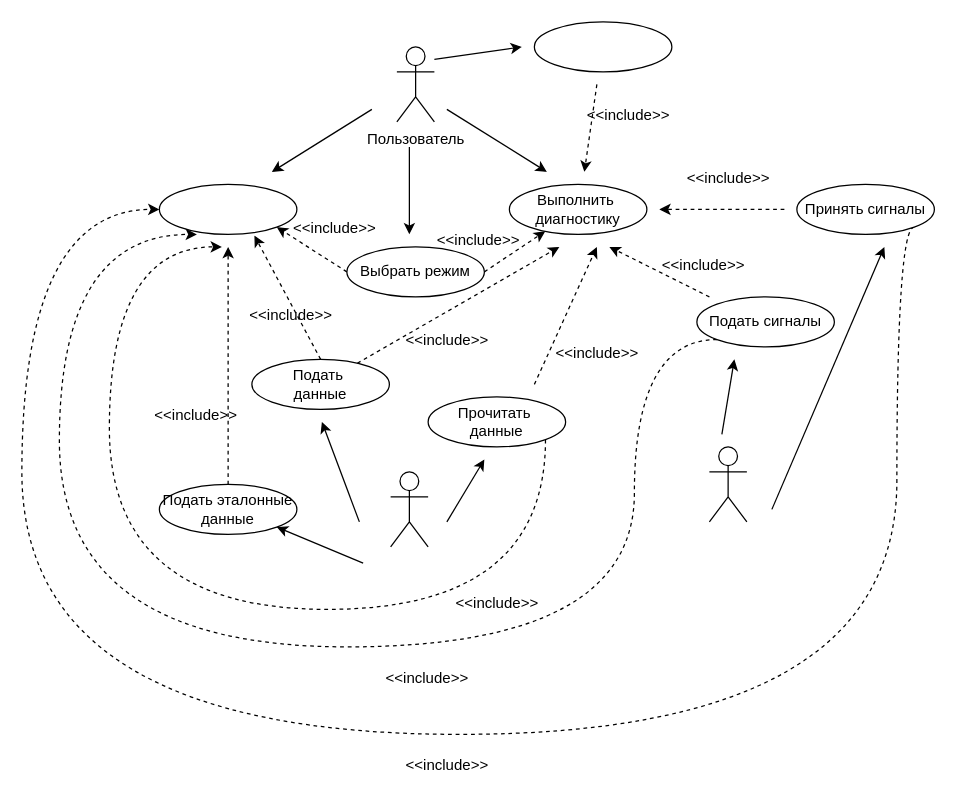
Image size: 956x806. Some labels were removed from this diagram. The shapes that lost their labels are listed below. From the top down, each one's centre as x and y in pixels, then its label:
(x=602, y=46): Задать состояния входов
(x=227, y=208): Проверить устройство
(x=727, y=484): Микроконтроллер
(x=408, y=509): Алгоритм
